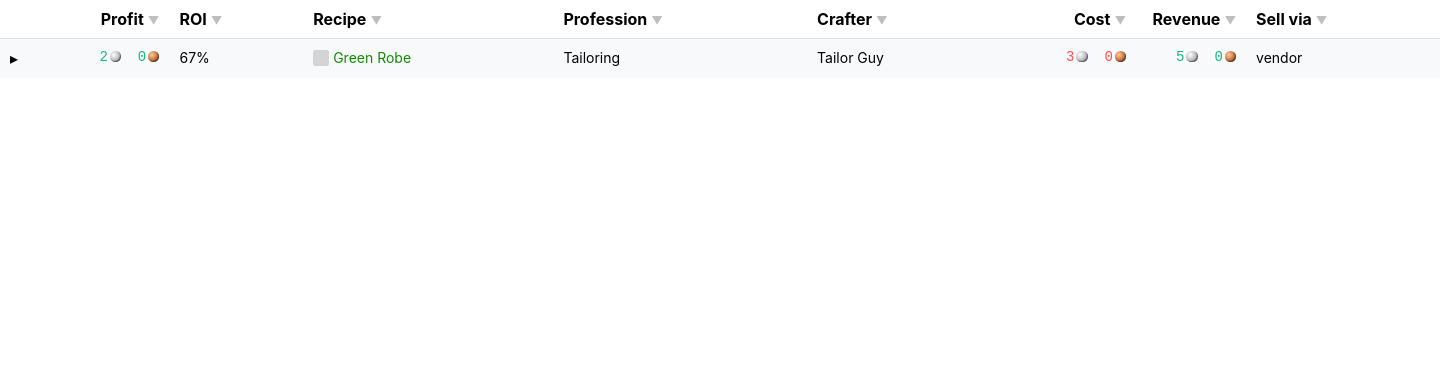
Test case: ResultsTable › expands a row into a flow chart of the reagents, crafts and sale
What coordinates should you click on to do the following:
click the button named "Details for Green Robe"
I would click on:
 (14, 58)
Its box is x1=10 y1=46 x2=18 y2=71.
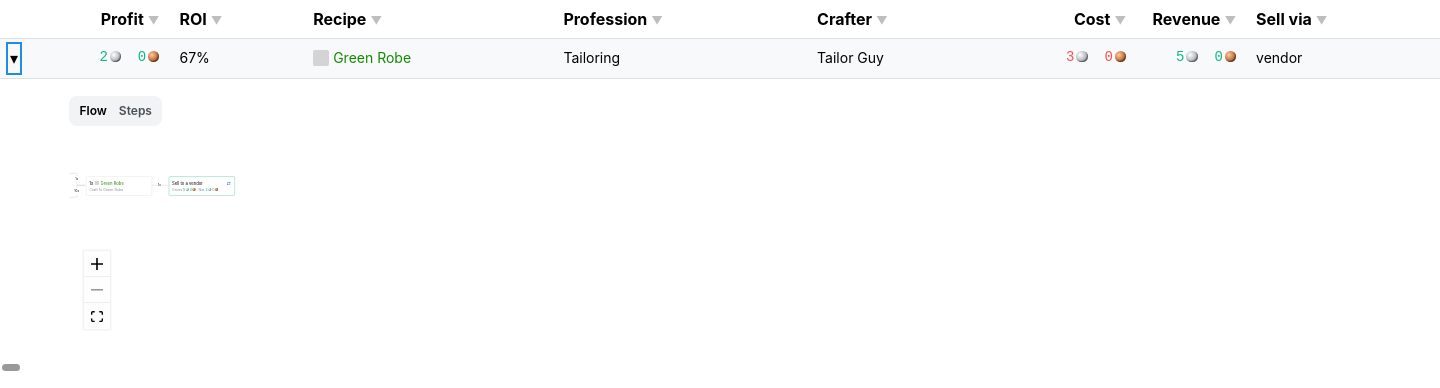
Result: the text "Craft 1x Green Robe" is shown at x1=90 y1=187 x2=124 y2=192
Result: the text "Sell to a vendor" is shown at x1=173 y1=180 x2=203 y2=186
